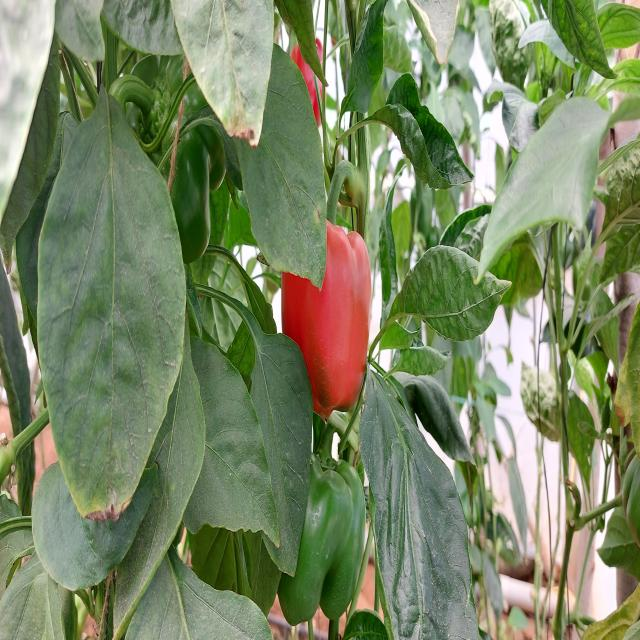Green--Not-ready-to-harvest: (277, 456, 367, 630), (156, 112, 232, 289)
Red-Ready-to-Harvest: (277, 204, 374, 419)
